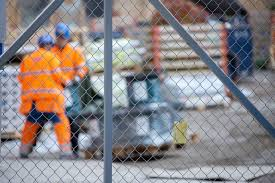helmet: (57, 22, 69, 38), (38, 34, 53, 45)
